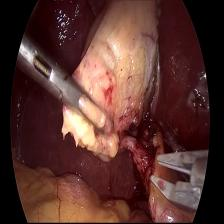Clipper: (148, 142, 210, 222)
Grasper: (20, 35, 122, 143)
